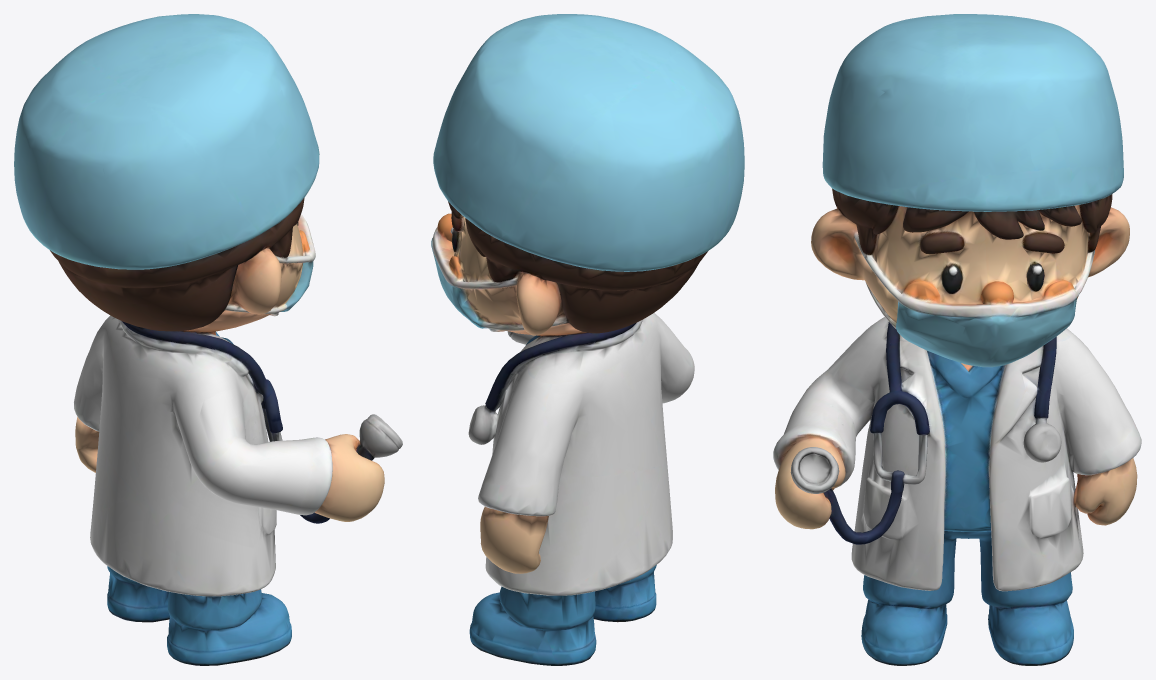
3 views of the same model, side by side, from view 1: azimuth 30°, elevation 25°; view 2: azimuth 150°, elevation 25°; view 3: azimuth 270°, elevation 25° (orthographic). The views are drawn at different scales.
Visible parts, largest first — view 1: tripo_node_6e8ae45e-615f-4e9a-aa66-7c8e8ec9f97e; view 2: tripo_node_6e8ae45e-615f-4e9a-aa66-7c8e8ec9f97e; view 3: tripo_node_6e8ae45e-615f-4e9a-aa66-7c8e8ec9f97e.
Boxes of the visible parts, x1=… form: tripo_node_6e8ae45e-615f-4e9a-aa66-7c8e8ec9f97e: x1=14, y1=14, x2=402, y2=665; tripo_node_6e8ae45e-615f-4e9a-aa66-7c8e8ec9f97e: x1=431, y1=14, x2=744, y2=665; tripo_node_6e8ae45e-615f-4e9a-aa66-7c8e8ec9f97e: x1=773, y1=14, x2=1141, y2=665.
Size of the model in its own units: 0.5081 by 0.9999 by 0.5532.
1 material, 1 textured.
